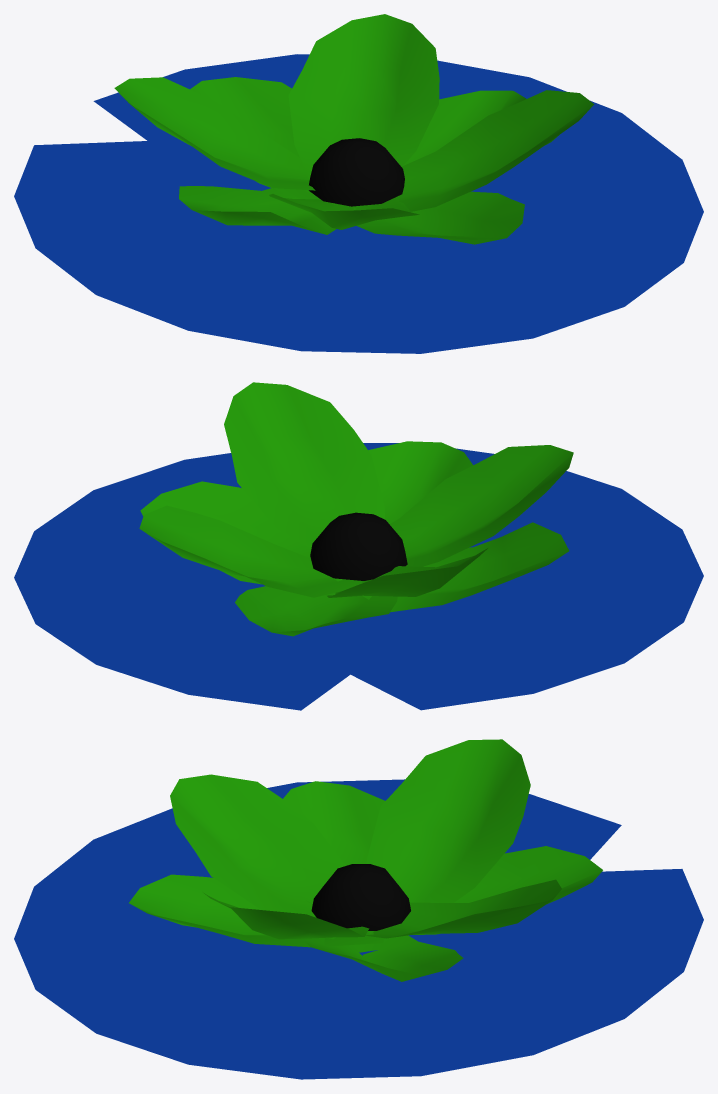
The model's file is Lilypad_AD.fbx.
3 renders of one model, top to bottom at view 1: azimuth 30°, elevation 25°; view 2: azimuth 150°, elevation 25°; view 3: azimuth 270°, elevation 25°, orthographic.
Parts seen in each view (by area): view 1: LilyPad_AD; view 2: LilyPad_AD; view 3: LilyPad_AD.
Part boxes in pixels (box(x1,y1,x2,y2)): LilyPad_AD: box(14, 14, 703, 353); LilyPad_AD: box(14, 382, 703, 710); LilyPad_AD: box(14, 739, 703, 1079).
Bounding box in the file's own units: 39.2 × 7.34 × 39.75.
